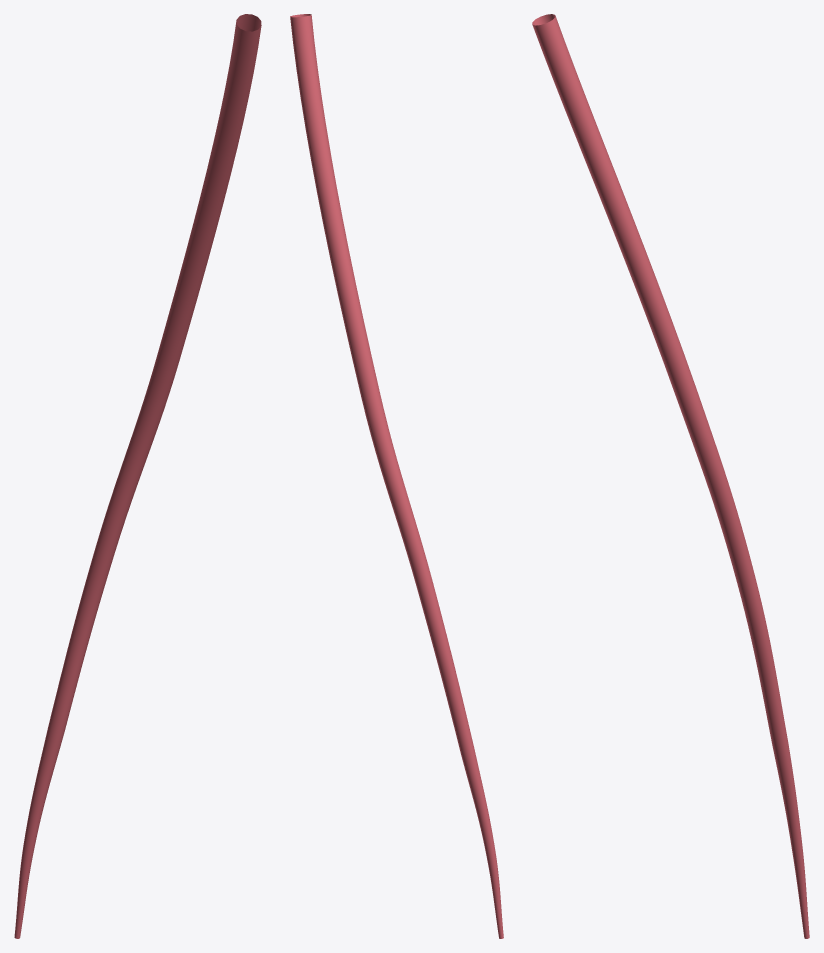
3 views of the same model, side by side, from view 1: azimuth 30°, elevation 25°; view 2: azimuth 210°, elevation 25°; view 3: azimuth 270°, elevation 25° (orthographic). The views are drawn at different scales.
Parts seen in each view (by area): view 1: ZA_e5ecf39a65f6b2a4; view 2: ZA_e5ecf39a65f6b2a4; view 3: ZA_e5ecf39a65f6b2a4.
Boxes of the visible parts, left/top/right/bottom form: ZA_e5ecf39a65f6b2a4: left=14, top=14, right=261, bottom=938; ZA_e5ecf39a65f6b2a4: left=290, top=14, right=503, bottom=938; ZA_e5ecf39a65f6b2a4: left=532, top=14, right=809, bottom=938.
Size of the model in its own units: 0.00915 by 0.0763 by 0.0198.
